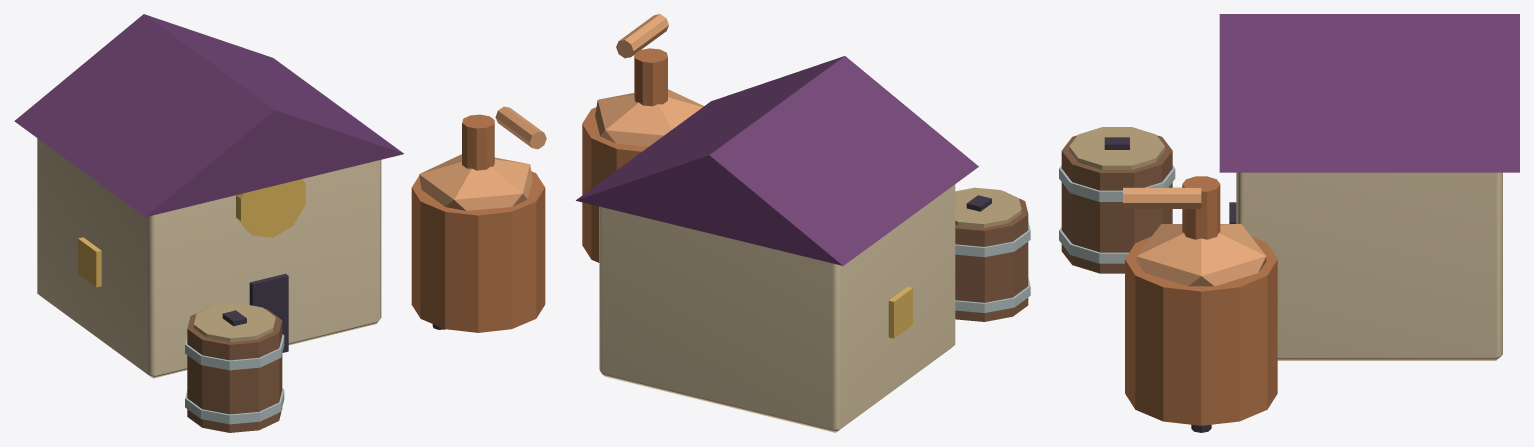
File: brewery.glb
3 views of the same model, side by side, from view 1: azimuth 30°, elevation 25°; view 2: azimuth 150°, elevation 25°; view 3: azimuth 270°, elevation 25° (orthographic). The views are drawn at different scales.
Visible parts, largest first — view 1: Cube.009, gable, Cone.061, Cone.066, Icosphere.065, Cone.070, Cone.069, Cone.062, Cube.010, Cone.067, Cone.068, Cone.063 (+1 smaller); view 2: Cube.009, gable, Cone.066, Icosphere.065, Cone.061, Cone.069, Cone.062, Cone.063, Cube.011, Cone.067, Cone.068; view 3: gable, Cube.009, Cone.061, Cone.066, Icosphere.065, Cone.069, Cone.062, Cone.063, Cone.068, Cone.067.
Part boxes in pixels (box(x1,y1,x2,y2)): Cube.009: box(37, 138, 381, 378); gable: box(14, 14, 403, 217); Cone.061: box(411, 171, 545, 332); Cone.066: box(187, 307, 282, 432); Icosphere.065: box(419, 154, 532, 210); Cone.070: box(236, 179, 305, 237); Cone.069: box(193, 303, 275, 341); Cone.062: box(462, 114, 494, 170); Cube.010: box(249, 273, 288, 352); Cone.067: box(185, 388, 284, 424); Cone.068: box(185, 334, 284, 370); Cone.063: box(495, 106, 546, 149); Cube.009: box(599, 184, 955, 432); gable: box(576, 56, 978, 265); Cone.066: box(955, 191, 1028, 321); Icosphere.065: box(595, 89, 703, 146); Cone.061: box(582, 107, 648, 262); Cone.069: box(955, 187, 1021, 227); Cone.062: box(634, 48, 667, 106); Cone.063: box(616, 14, 668, 58); Cube.011: box(888, 286, 912, 338); Cone.067: box(955, 278, 1030, 312); Cone.068: box(955, 222, 1030, 257); gable: box(1219, 14, 1519, 172); Cube.009: box(1236, 172, 1502, 360); Cone.061: box(1125, 236, 1277, 425); Cone.066: box(1061, 135, 1172, 273); Icosphere.065: box(1136, 224, 1266, 286); Cone.069: box(1069, 127, 1165, 169); Cone.062: box(1182, 176, 1220, 239); Cone.063: box(1123, 187, 1201, 208); Cone.068: box(1059, 165, 1175, 201); Cone.067: box(1059, 227, 1128, 263).
Bounding box in the file's own units: 1.8 × 1.12 × 1.64.
